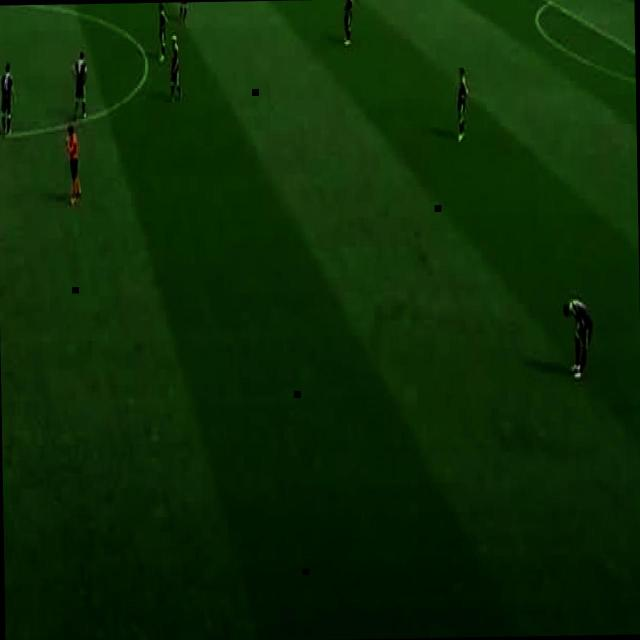player-white: (561, 294, 593, 380), (66, 122, 82, 208), (454, 65, 470, 143), (0, 62, 16, 136), (72, 50, 88, 119), (169, 34, 181, 104), (159, 2, 169, 64), (343, 0, 355, 48), (179, 2, 191, 23)
